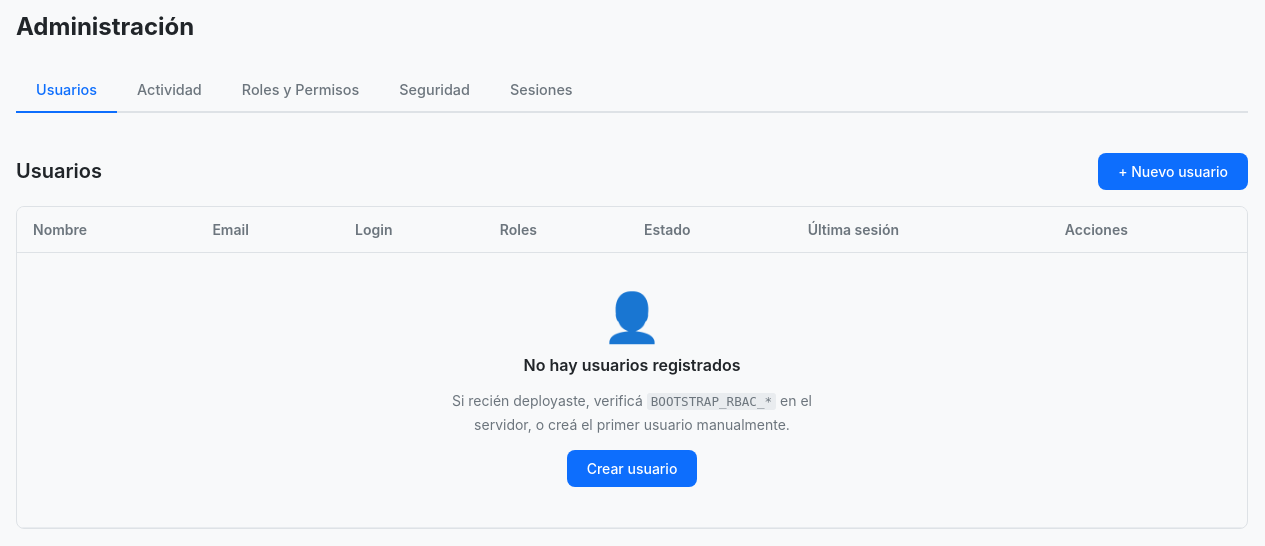
AdminPage › clicking "Actividad" tab shows the audit events table
The image size is (1265, 546).
What coordinates should you click on to do the following:
click the button "Actividad"
I would click on:
 (169, 91)
Its box is [117,69,222,113].
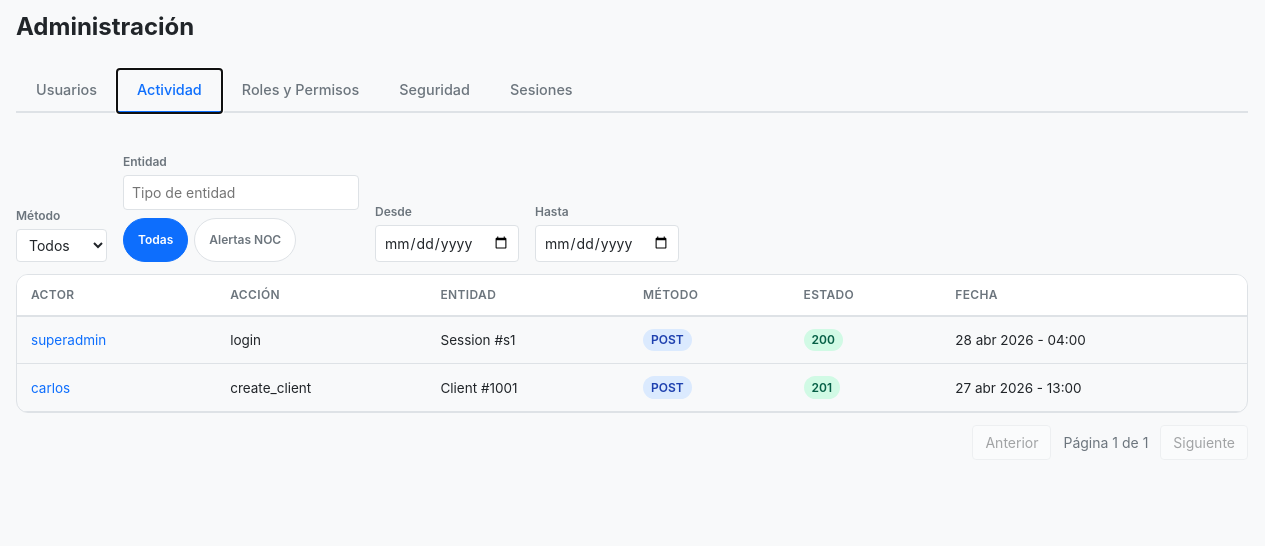
Result: the button "superadmin" is shown at [31,330,106,350]
Result: the text "create_client" is shown at [216,364,426,412]
